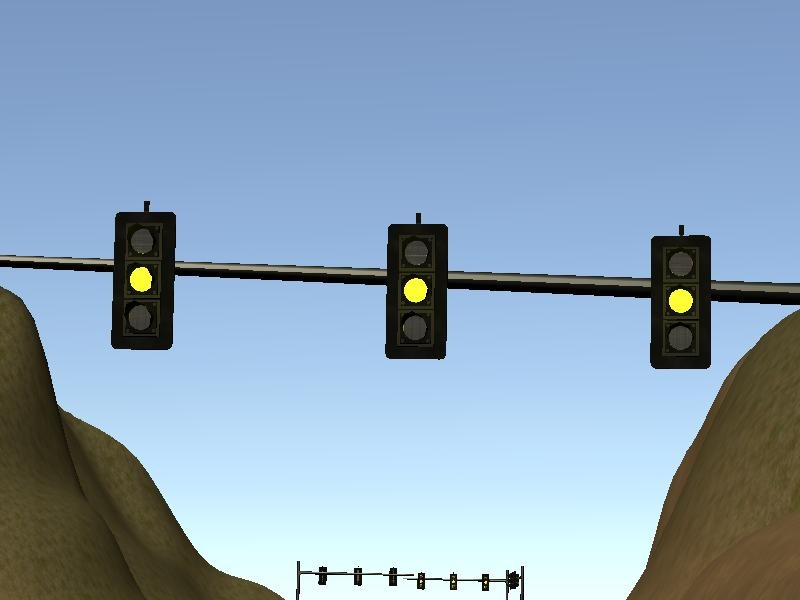YELLOW: (108, 210, 177, 351), (381, 218, 450, 359), (646, 230, 715, 371)
